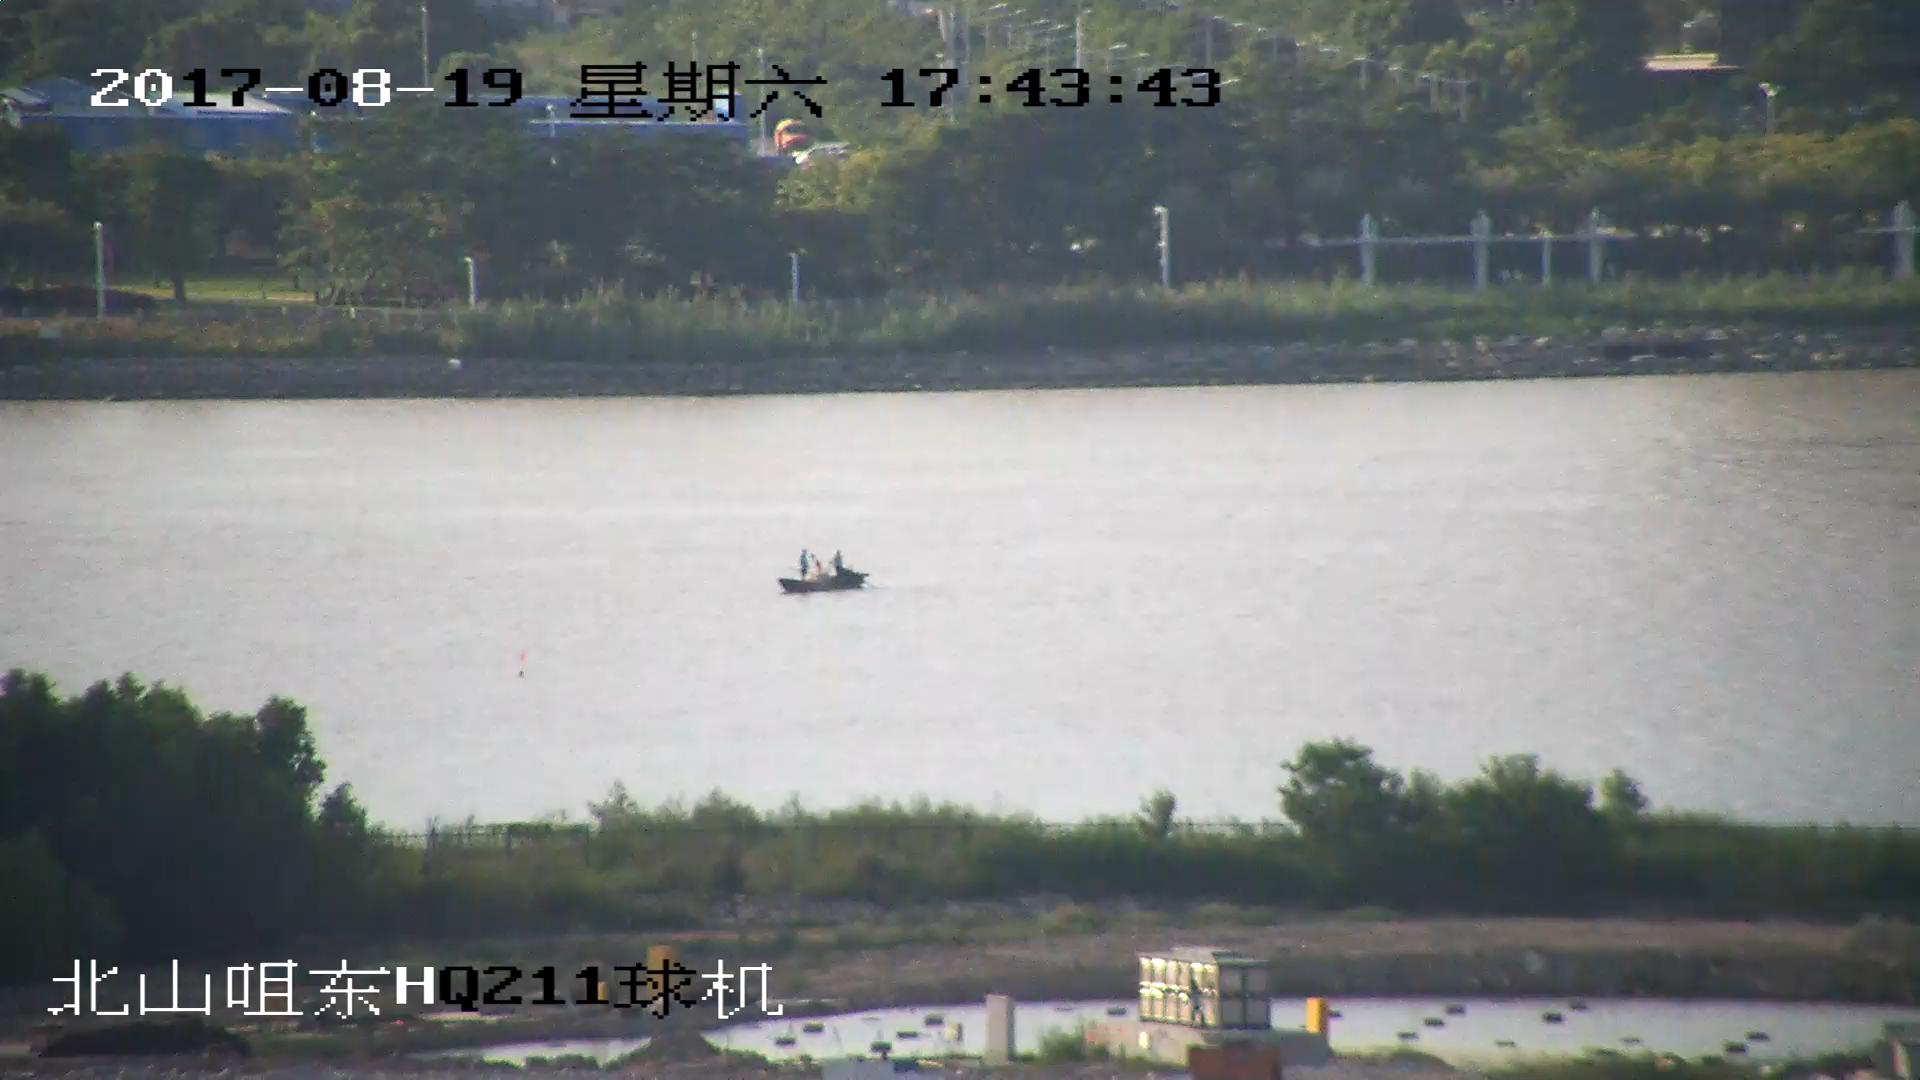fishing boat: (779, 551, 866, 594)
